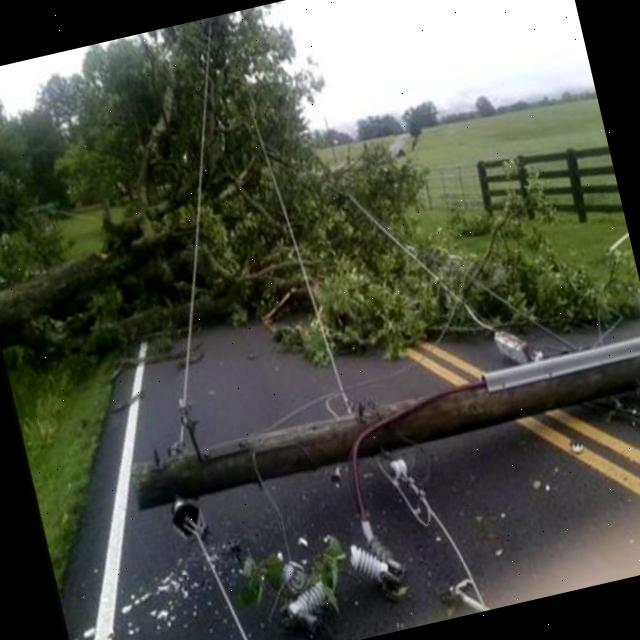Broken Pole: (119, 307, 640, 640)
